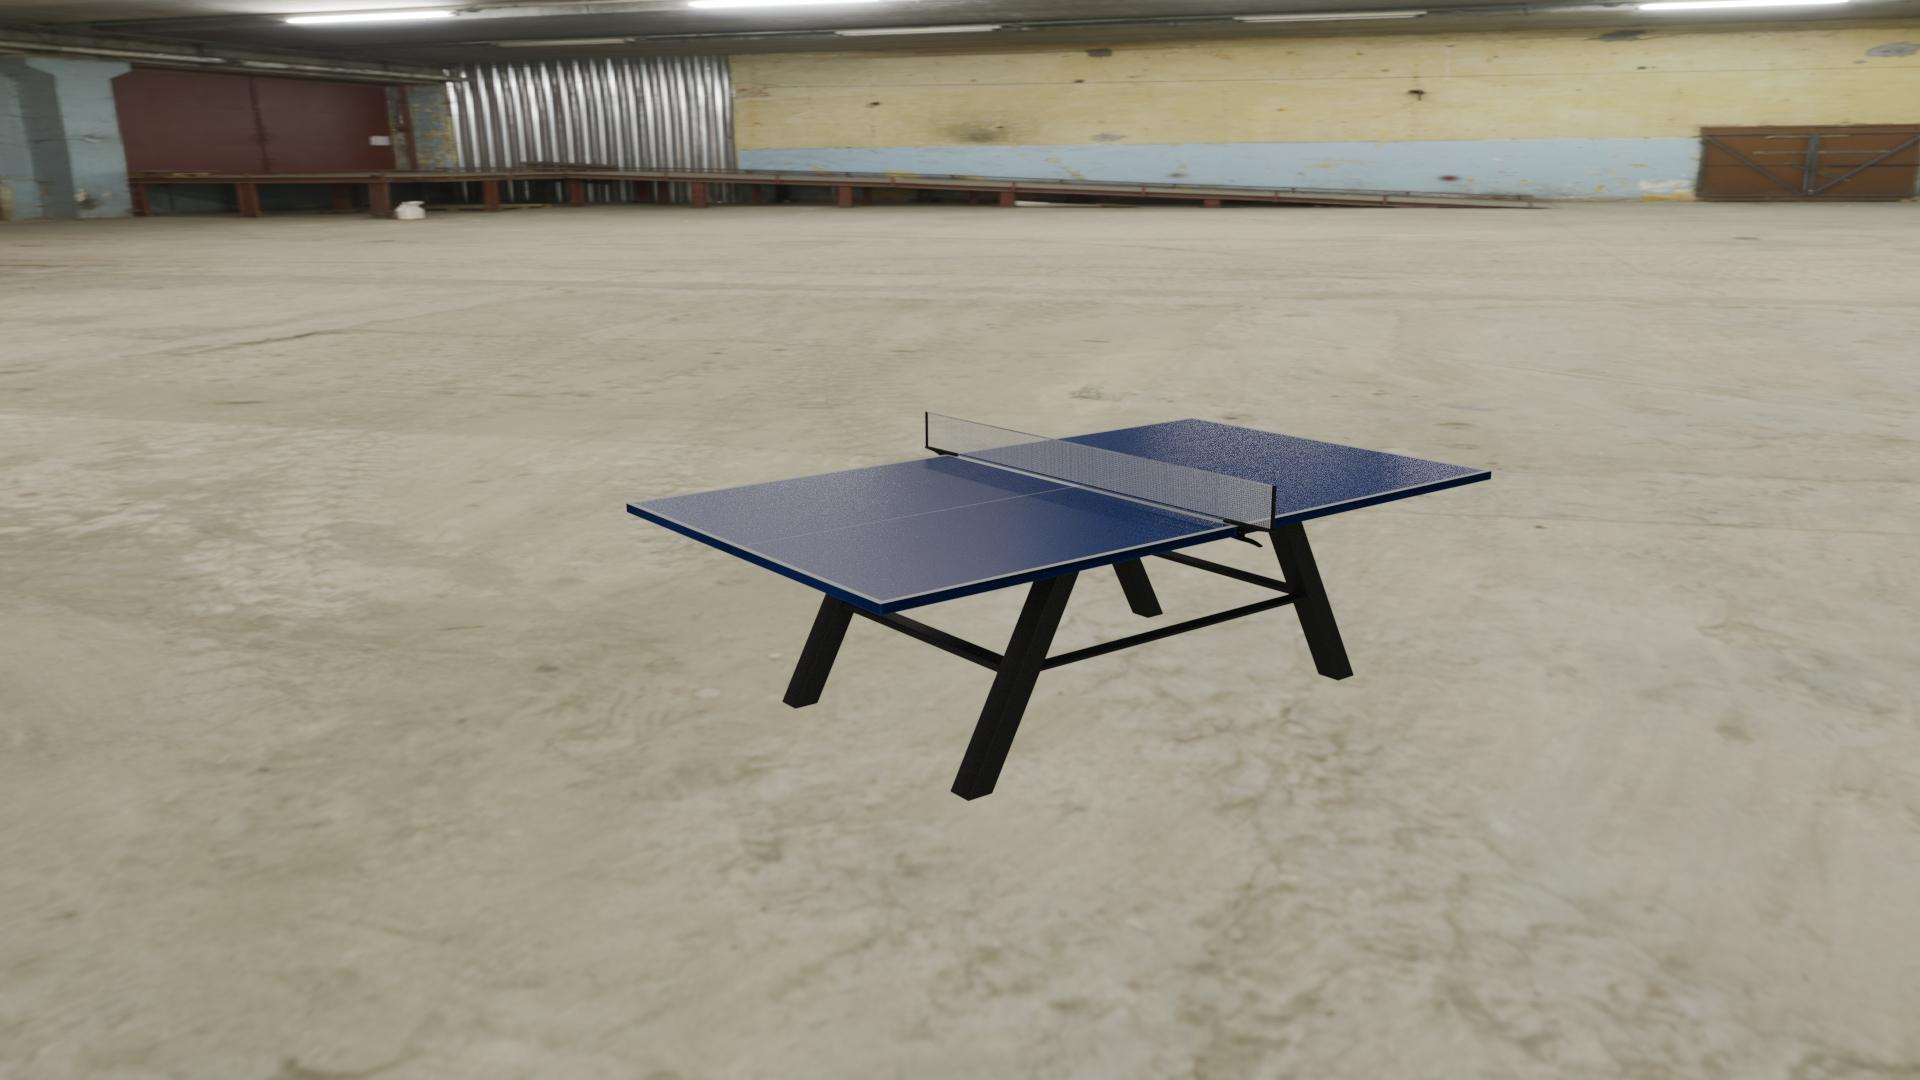table: (633, 418, 1485, 601)
